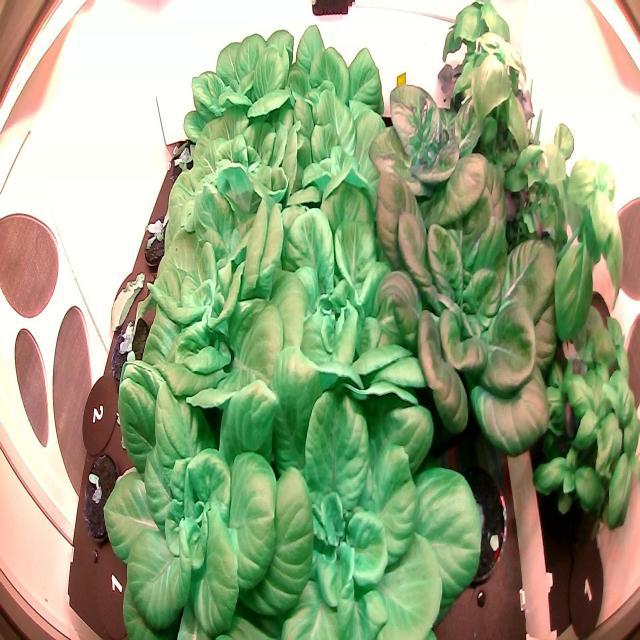Ready: (368, 150, 574, 490), (250, 358, 490, 640), (104, 350, 314, 640), (126, 163, 301, 415), (262, 172, 432, 415), (157, 71, 317, 268), (357, 56, 509, 234), (273, 61, 398, 220), (179, 23, 296, 178), (276, 21, 386, 156)
